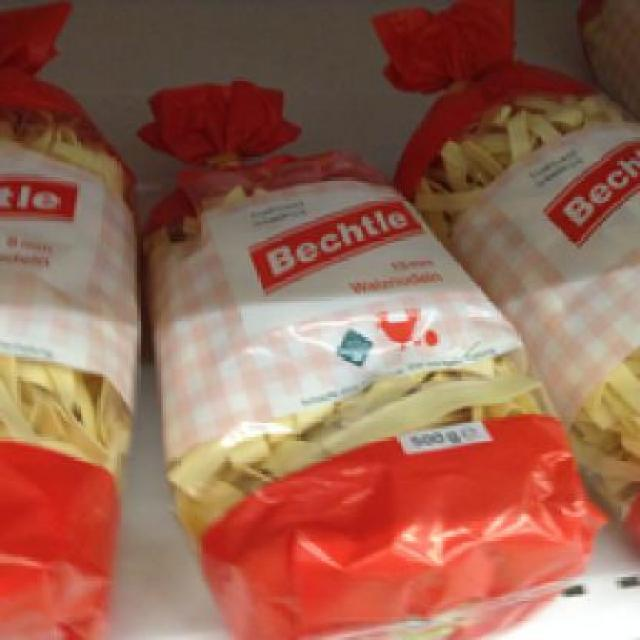Pasta: (139, 77, 592, 626), (0, 48, 137, 638)
